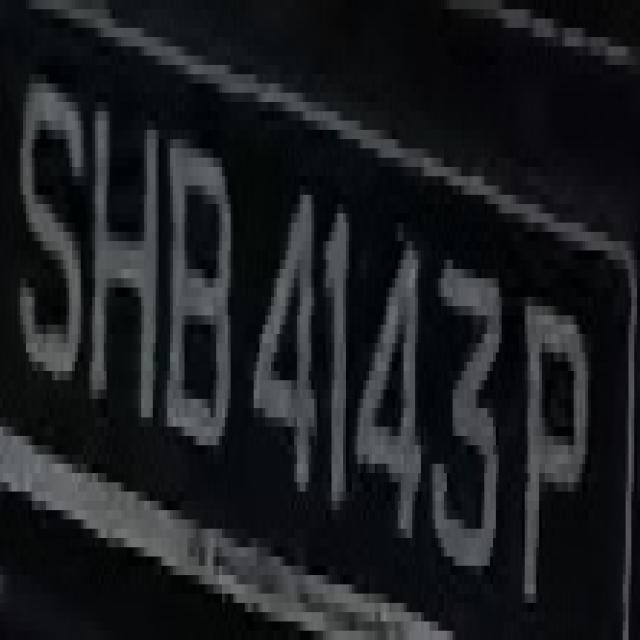1: (314, 148, 355, 538)
3: (430, 222, 508, 594)
4: (358, 167, 430, 584), (251, 139, 320, 501)
B: (167, 93, 234, 510)
H: (84, 47, 167, 446)
P: (513, 250, 597, 622)
S: (18, 46, 86, 427)
